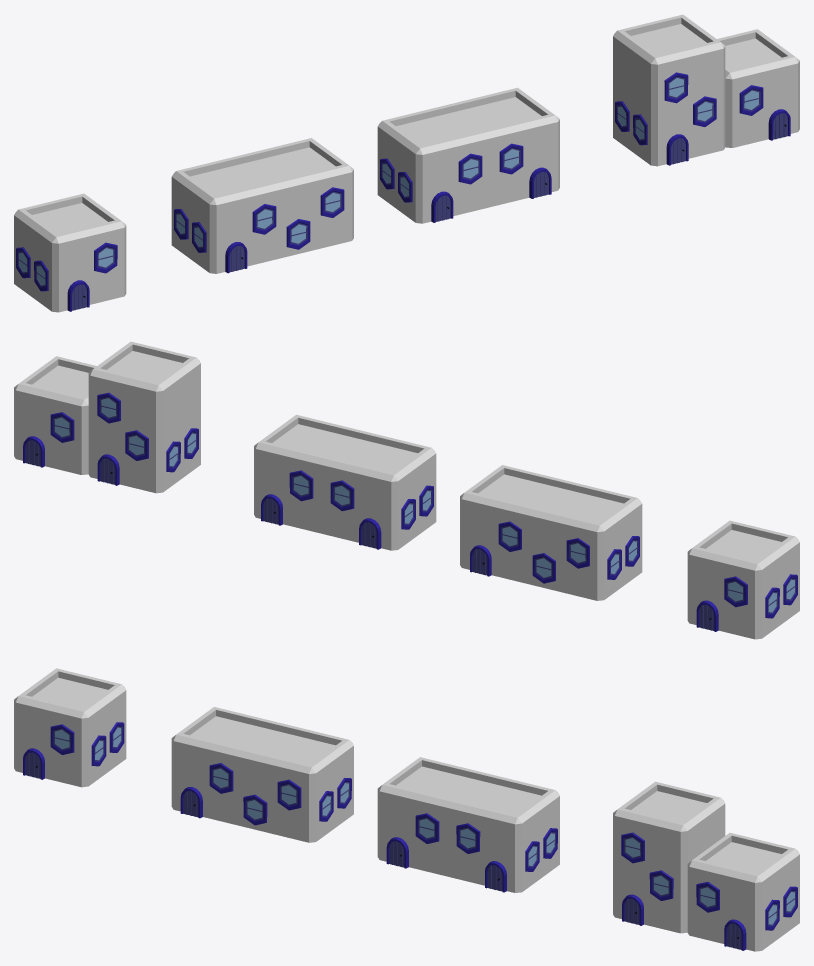
The model's file is HouseSea 1.fbx.
The picture shows the model from 3 angles, top to bottom: view 1: azimuth 30°, elevation 25°; view 2: azimuth 150°, elevation 25°; view 3: azimuth 330°, elevation 25°; orthographic projection.
Parts seen in each view (by area): view 1: Cube.010, Cube.006, Cube.011, Cube.014; view 2: Cube.010, Cube.006, Cube.011, Cube.014; view 3: Cube.010, Cube.006, Cube.011, Cube.014.
Boxes of the visible parts, x1,y1,x2,y2 form: Cube.010: [613, 14, 799, 166]; Cube.006: [377, 87, 559, 223]; Cube.011: [171, 138, 353, 273]; Cube.014: [14, 193, 126, 312]; Cube.010: [14, 341, 200, 493]; Cube.006: [254, 414, 436, 550]; Cube.011: [460, 465, 642, 600]; Cube.014: [687, 520, 799, 639]; Cube.010: [613, 781, 799, 951]; Cube.006: [377, 757, 559, 892]; Cube.011: [171, 707, 353, 842]; Cube.014: [14, 668, 126, 787].
Size of the model in its own units: 3312 by 448 by 374.
